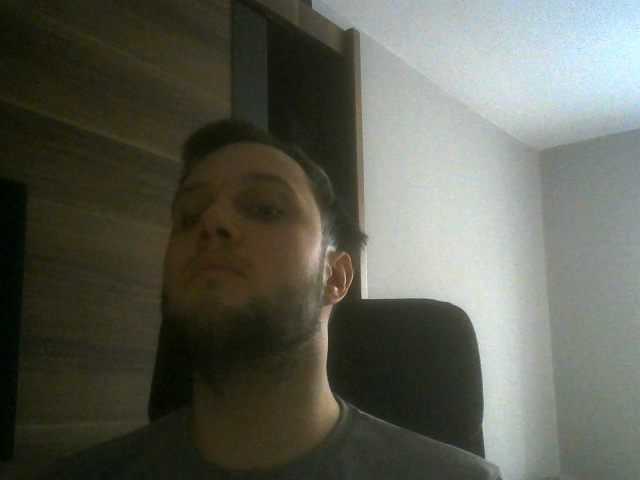neutral: (163, 115, 353, 345)
